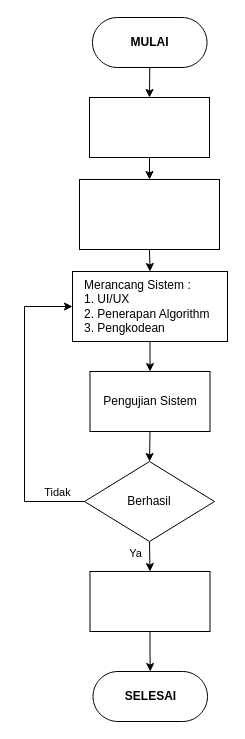
Some shapes in this 245 by 739 pixel diagram are drawn without their labels. Each missing label, with the box of its shape:
Identifikasi Masalah: (88, 96, 210, 158)
Implementasi: (89, 570, 210, 632)
Pengumpulan Data: 1. Studi Pustaka 2. Riset: (78, 178, 220, 250)
